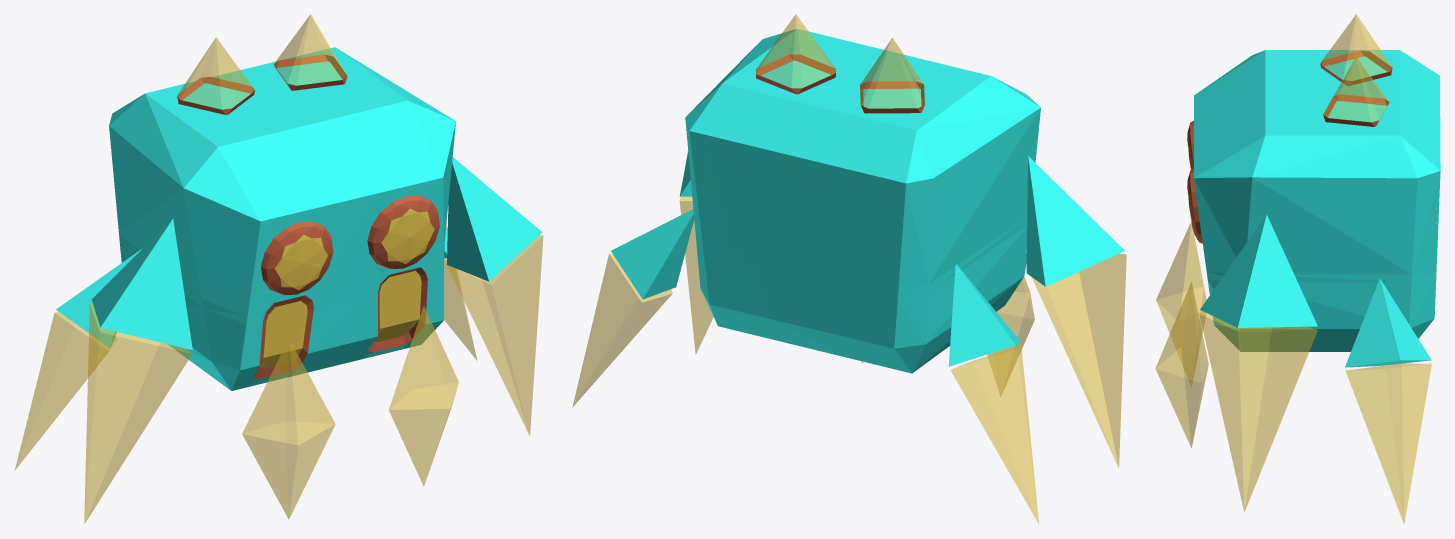
The model's file is crab.dae.
The picture shows the model from 3 angles, left to right: view 1: azimuth 30°, elevation 25°; view 2: azimuth 150°, elevation 25°; view 3: azimuth 270°, elevation 25°; orthographic projection. The views are drawn at different scales.
Parts seen in each view (by area): view 1: Cube_002; view 2: Cube_002; view 3: Cube_002.
Part boxes in pixels (bbox=[...]): Cube_002: bbox=[14, 14, 543, 523]; Cube_002: bbox=[572, 14, 1126, 523]; Cube_002: bbox=[1155, 14, 1440, 523].
Bounding box in the file's own units: 2.49 × 1.44 × 2.14.
